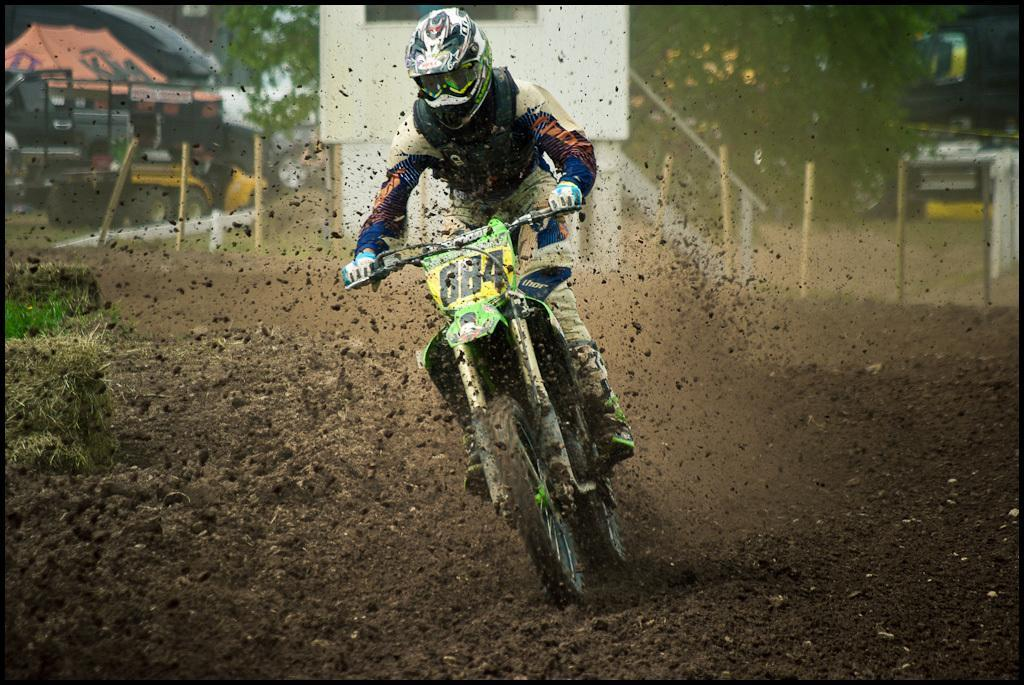helmet: (404, 5, 495, 132)
